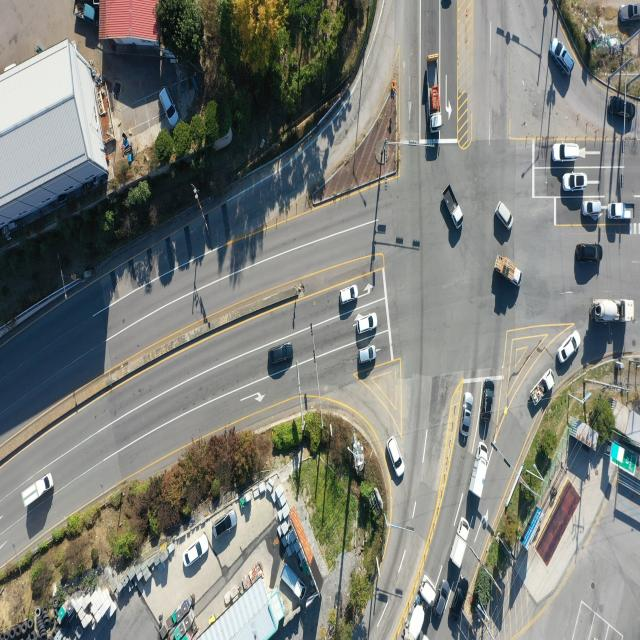car: (551, 40, 575, 76), (184, 537, 209, 569), (387, 436, 405, 478), (558, 331, 580, 365), (606, 96, 635, 120), (460, 393, 473, 445), (213, 512, 235, 541), (269, 343, 295, 367), (552, 142, 580, 162), (575, 242, 602, 262), (162, 88, 177, 124), (355, 312, 378, 335), (480, 380, 492, 424), (450, 583, 465, 618), (496, 202, 514, 231), (562, 172, 587, 192), (436, 583, 451, 616), (619, 2, 640, 22), (339, 284, 358, 304), (356, 345, 375, 365), (583, 200, 602, 218), (442, 0, 452, 10)
medium_truck: (406, 577, 436, 640), (593, 296, 637, 324), (428, 51, 442, 131)
small_truck: (22, 473, 54, 511), (469, 441, 489, 500), (450, 516, 470, 568), (280, 565, 306, 601), (529, 371, 554, 407), (495, 255, 522, 288), (446, 185, 464, 229), (74, 0, 97, 25), (609, 202, 636, 222)
